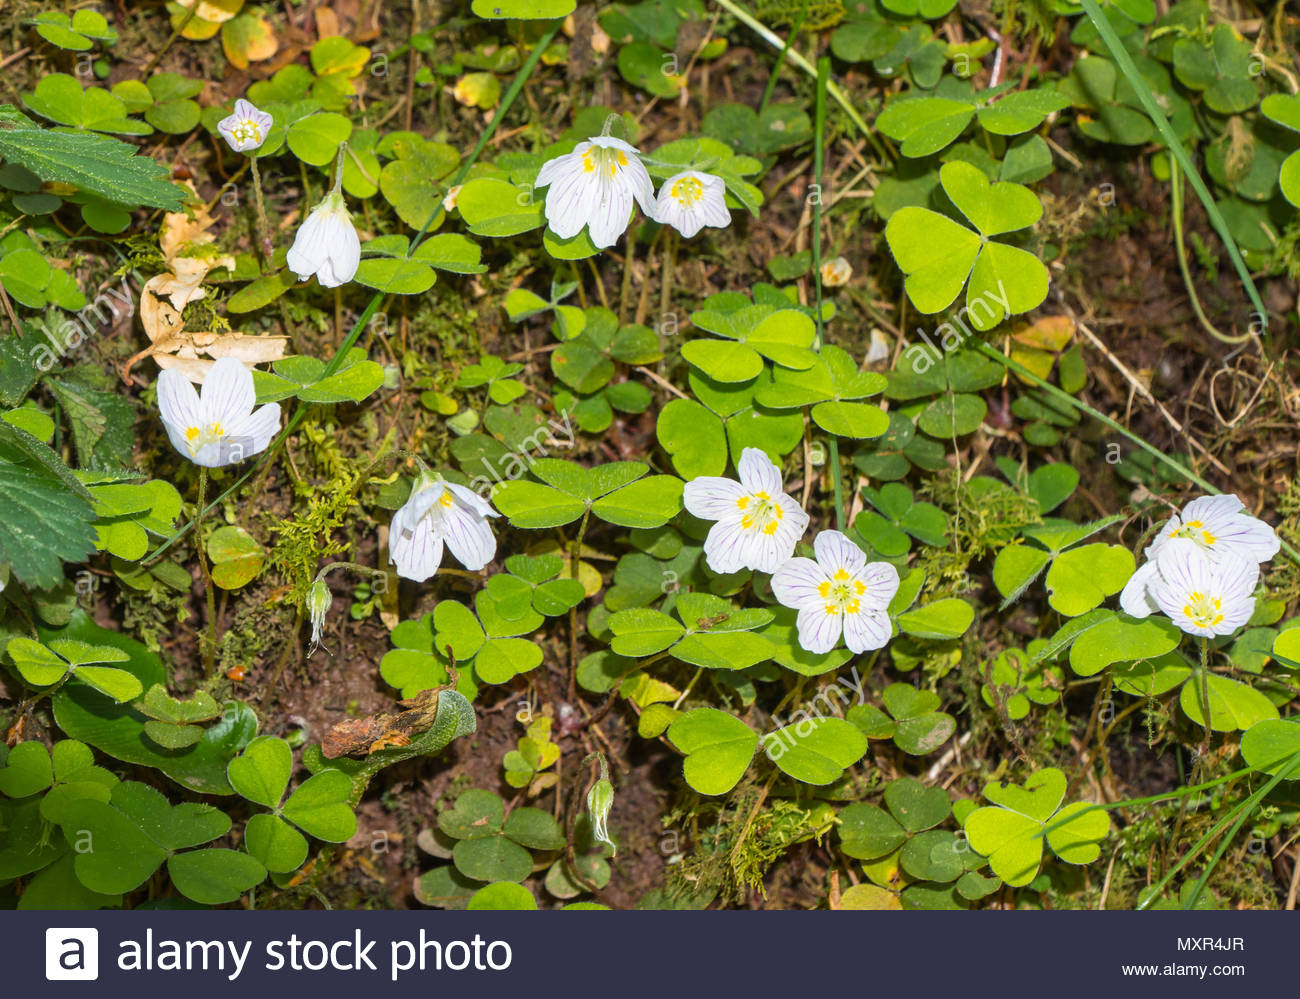oxalis: (33, 618, 378, 909), (533, 548, 838, 786), (864, 65, 1088, 343), (630, 286, 879, 482), (894, 748, 1097, 897)
